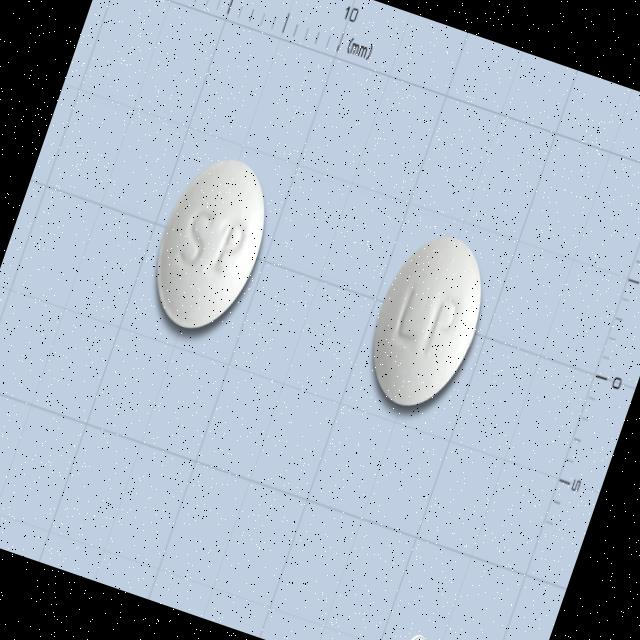Lefocin: (135, 144, 285, 342), (353, 222, 502, 420)
